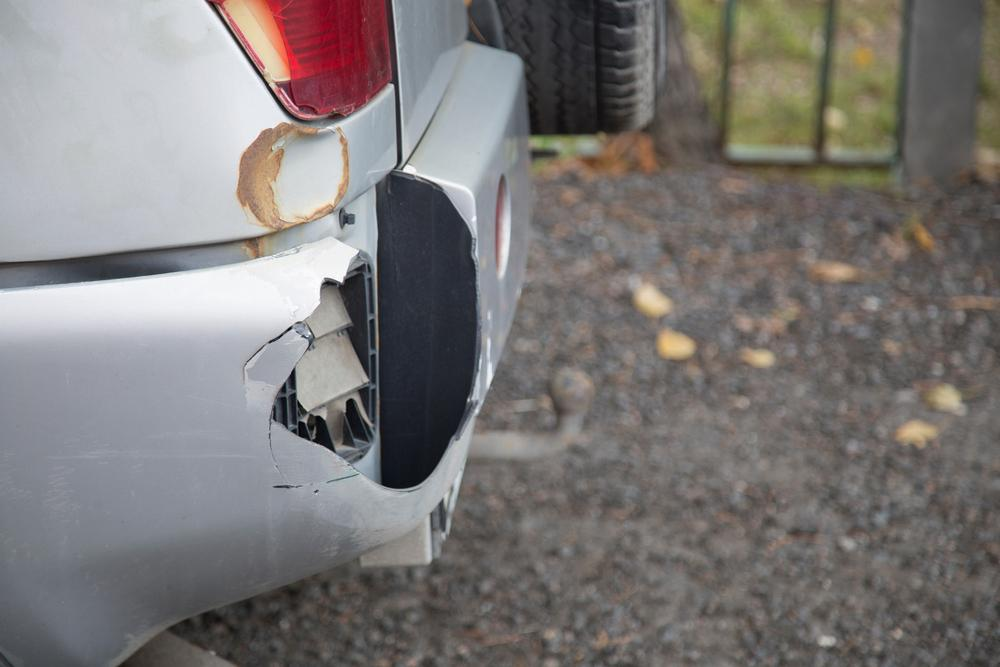crack: (242, 320, 304, 403), (267, 412, 283, 478)
dent: (263, 124, 351, 225)
lamp broken: (205, 0, 396, 120)
scratch: (271, 471, 434, 554)
